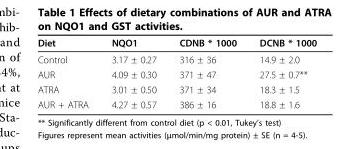table: (36, 36, 316, 109)
table column: (167, 36, 247, 109), (247, 36, 316, 109), (99, 36, 167, 109), (36, 36, 99, 109)
table column header: (36, 36, 316, 50)
table row: (36, 50, 316, 66), (36, 66, 316, 81), (36, 81, 316, 96), (36, 36, 316, 50), (36, 96, 316, 109)
